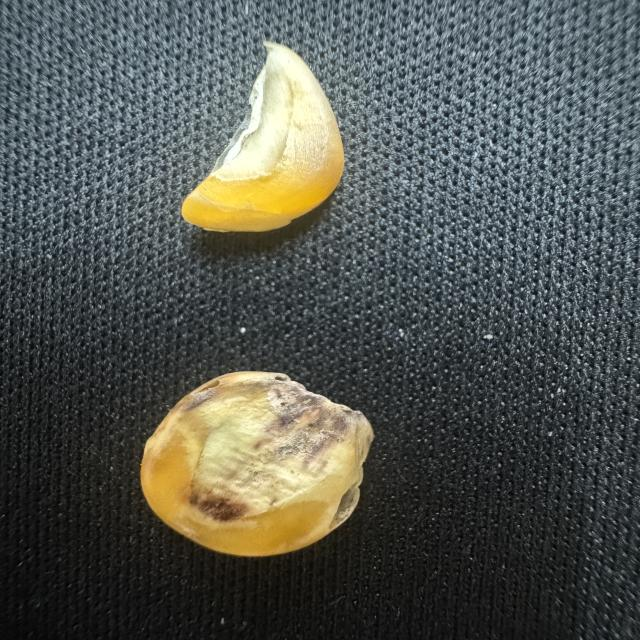Bad-Seed: (119, 354, 384, 562), (172, 24, 360, 258)
